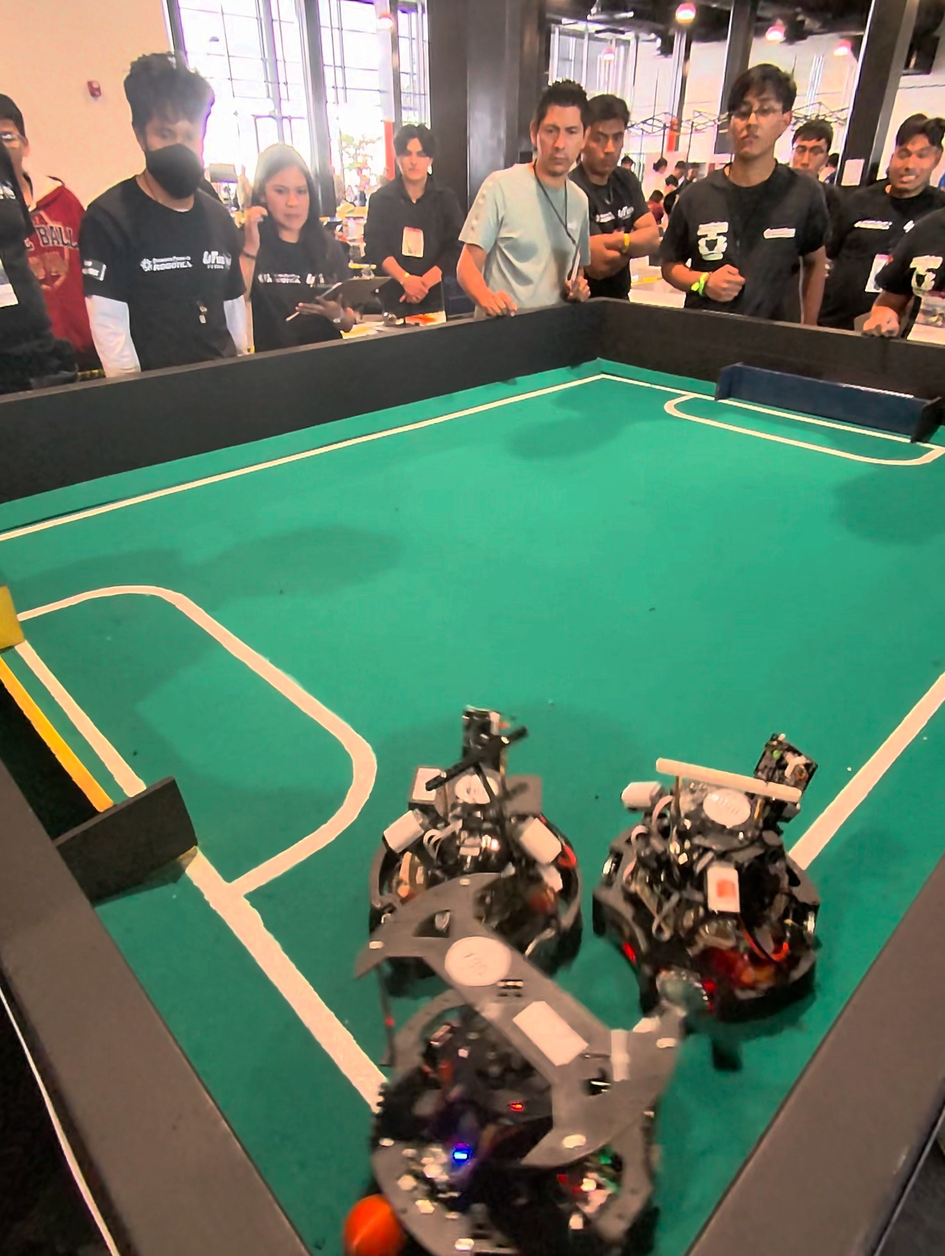Robot: (336, 860, 658, 1256), (582, 727, 833, 1041), (359, 735, 597, 987)
pelota: (331, 1181, 408, 1256)
